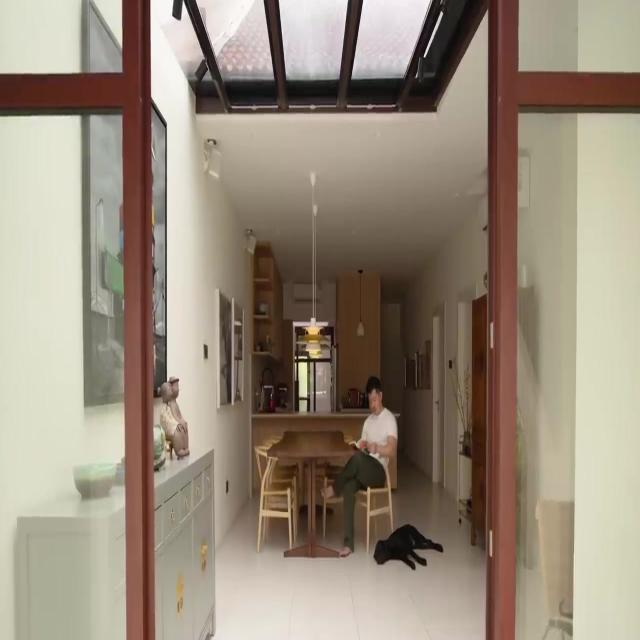obstacle: (265, 429, 357, 558)
person: (320, 375, 398, 557)
